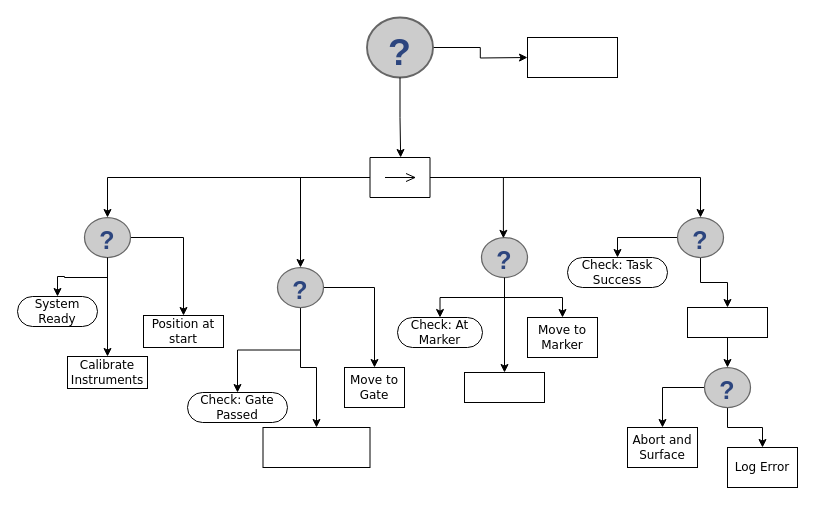
Some shapes in this 815 by 505 pixel diagram are drawn without their labels. The centre of each missing label's shape, as x and y in pixels:
"Blink For Help" belongs at (572,57).
"Log Completion" belongs at (727,322).
"Set Heading to Gate" belongs at (316,447).
"Set Heading to Marker" belongs at (504,387).
